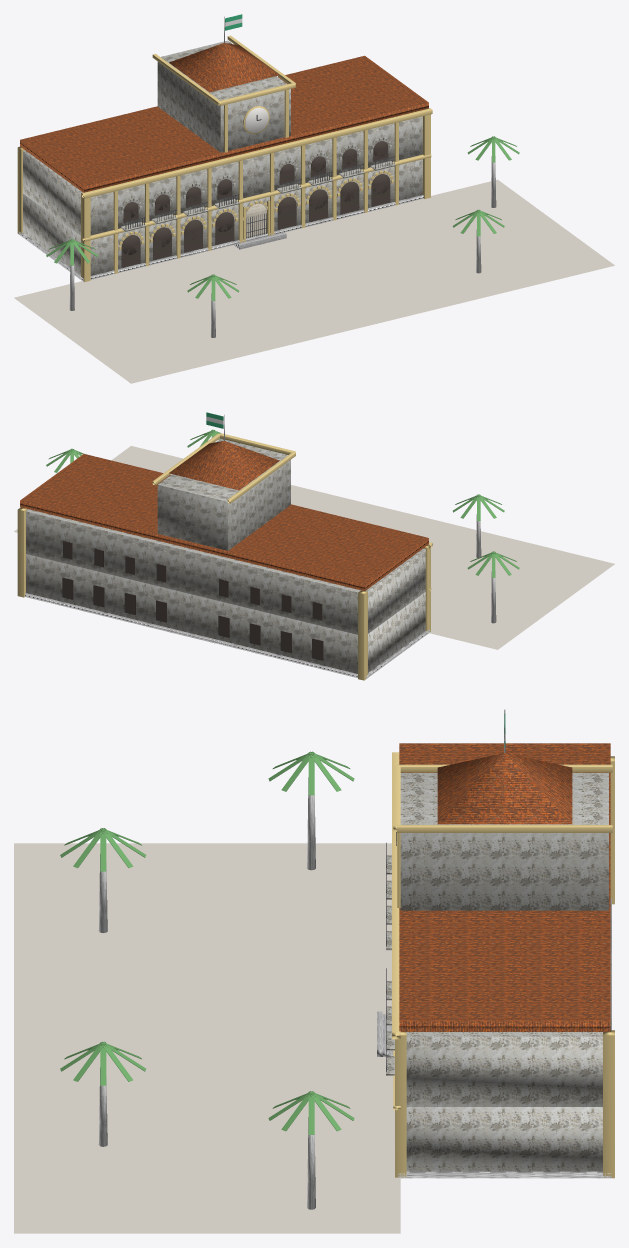
File: ayuntamiento_moguer_completo.glb
3 renders of one model, top to bottom at view 1: azimuth 30°, elevation 25°; view 2: azimuth 150°, elevation 25°; view 3: azimuth 270°, elevation 25°, orthographic. The views are drawn at different scales.
Visible parts, largest first — view 1: Plaza_Empedrado, Grupo_0_83piezas, Grupo_3_2piezas, Grupo_2_105piezas, Grupo_4_48piezas, Grupo_1_4piezas, Grupo_9_36piezas, Grupo_5_95piezas, Grupo_8_4piezas, Grupo_6_2piezas; view 2: Grupo_0_83piezas, Grupo_3_2piezas, Plaza_Empedrado, Grupo_2_105piezas, Grupo_4_48piezas, Grupo_1_4piezas, Grupo_9_36piezas, Grupo_8_4piezas; view 3: Plaza_Empedrado, Grupo_0_83piezas, Grupo_3_2piezas, Grupo_2_105piezas, Grupo_9_36piezas, Grupo_1_4piezas, Grupo_8_4piezas.
Part boxes in pixels (x1=…): Plaza_Empedrado: x1=14, y1=179, x2=614, y2=383; Grupo_0_83piezas: x1=23, y1=40, x2=422, y2=275; Grupo_3_2piezas: x1=20, y1=43, x2=428, y2=192; Grupo_2_105piezas: x1=17, y1=35, x2=432, y2=282; Grupo_4_48piezas: x1=121, y1=141, x2=390, y2=267; Grupo_1_4piezas: x1=18, y1=195, x2=423, y2=281; Grupo_9_36piezas: x1=46, y1=136, x2=519, y2=300; Grupo_5_95piezas: x1=125, y1=115, x2=395, y2=238; Grupo_8_4piezas: x1=69, y1=156, x2=496, y2=337; Grupo_6_2piezas: x1=246, y1=203, x2=266, y2=237; Grupo_0_83piezas: x1=26, y1=438, x2=425, y2=673; Grupo_3_2piezas: x1=20, y1=441, x2=428, y2=591; Plaza_Empedrado: x1=14, y1=446, x2=614, y2=649; Grupo_2_105piezas: x1=17, y1=433, x2=432, y2=680; Grupo_4_48piezas: x1=62, y1=541, x2=323, y2=660; Grupo_1_4piezas: x1=25, y1=593, x2=429, y2=679; Grupo_9_36piezas: x1=46, y1=429, x2=519, y2=577; Grupo_8_4piezas: x1=476, y1=514, x2=496, y2=623; Plaza_Empedrado: x1=14, y1=843, x2=400, y2=1233; Grupo_0_83piezas: x1=386, y1=773, x2=608, y2=1171; Grupo_3_2piezas: x1=399, y1=743, x2=610, y2=1031; Grupo_2_105piezas: x1=392, y1=752, x2=614, y2=1178; Grupo_9_36piezas: x1=60, y1=751, x2=354, y2=1134; Grupo_1_4piezas: x1=377, y1=898, x2=611, y2=1178; Grupo_8_4piezas: x1=98, y1=777, x2=315, y2=1209.
Bounding box in the file's own units: 3 × 1.18 × 1.95.
14 materials, 6 textured.
